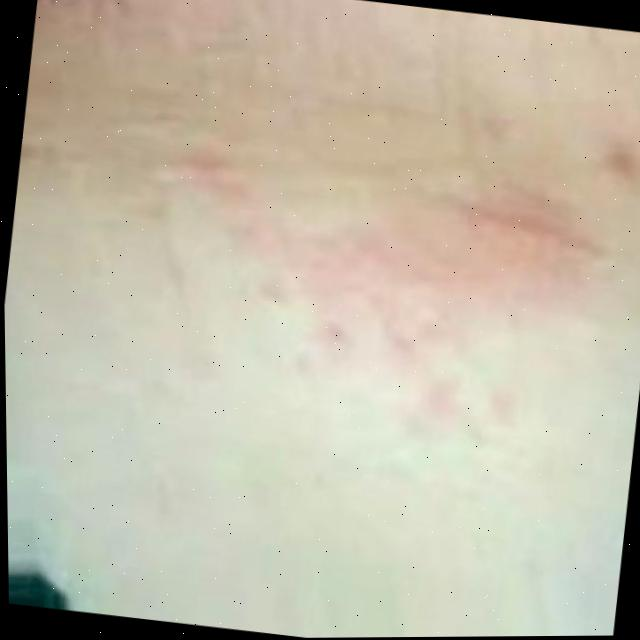Shingles: (255, 168, 608, 376)
